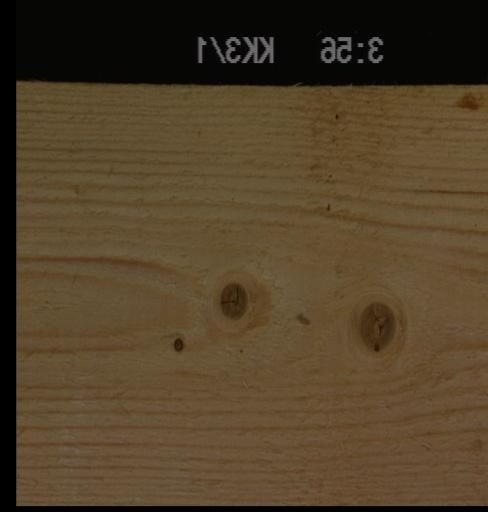dry_knot: (171, 336, 184, 351)
sound_knot: (355, 299, 398, 352), (218, 279, 249, 319)
